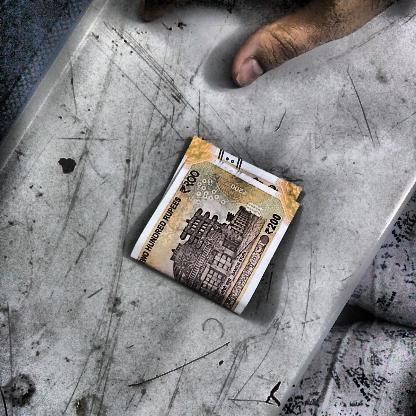Rs200: (262, 209, 286, 240)
